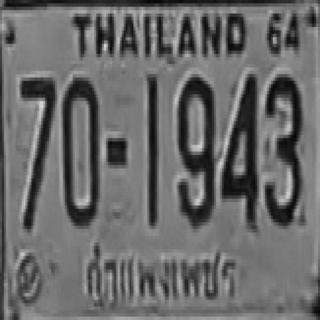N00: (61, 74, 98, 222)
N01: (145, 74, 157, 226)
N03: (263, 71, 300, 222)
N04: (220, 71, 257, 222)
N07: (20, 74, 55, 229)
N09: (177, 74, 214, 226)
P16: (82, 239, 238, 311)
